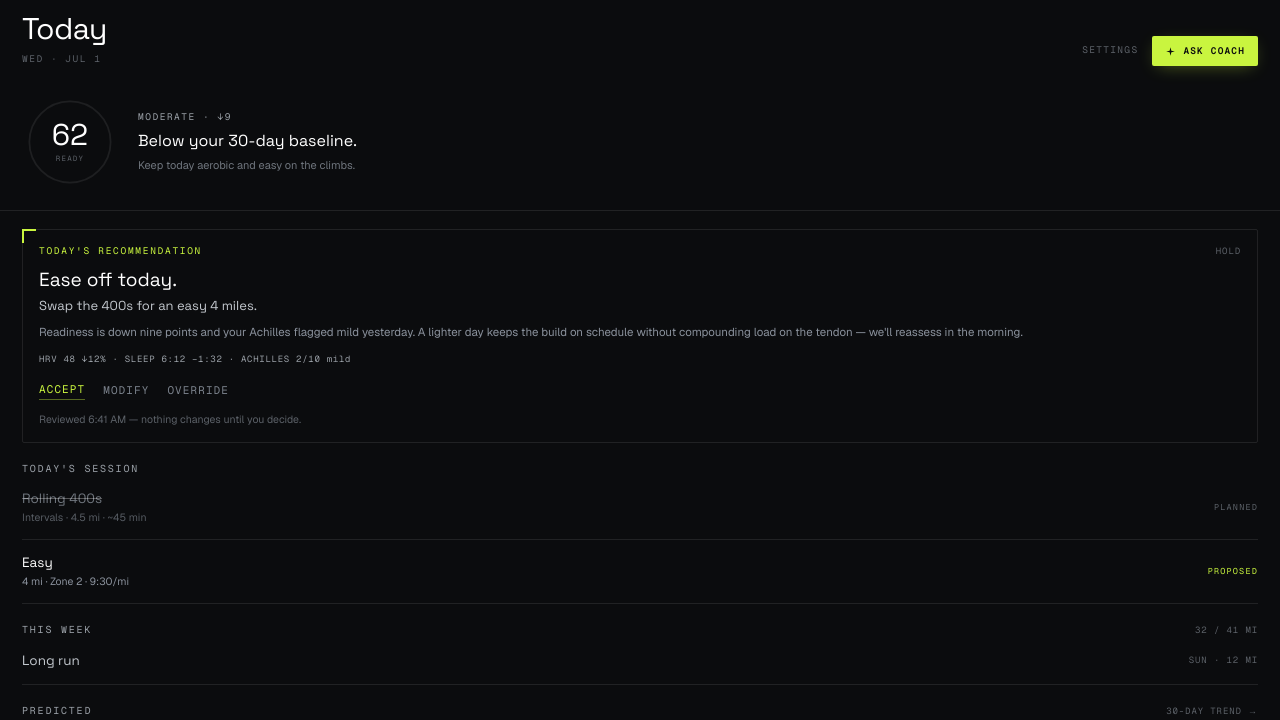
ACCEPT mutates today's session to the easy swap
Click the button "ACCEPT": (62, 391) [39,381,85,400]
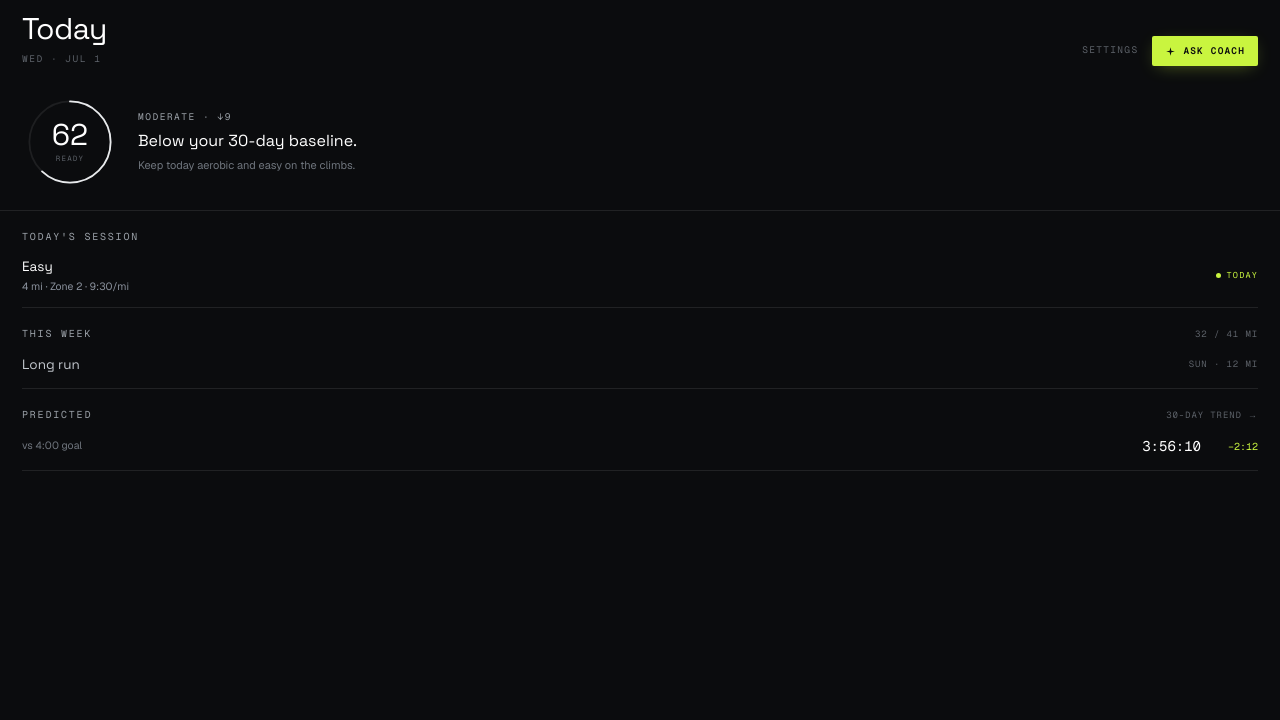
Expected: the text "4 mi · Zone 2 · 9:30/mi" is shown, [22,278,129,292]
Now the text "PROPOSED" is gone
Now the text "Rolling 400s" is gone
